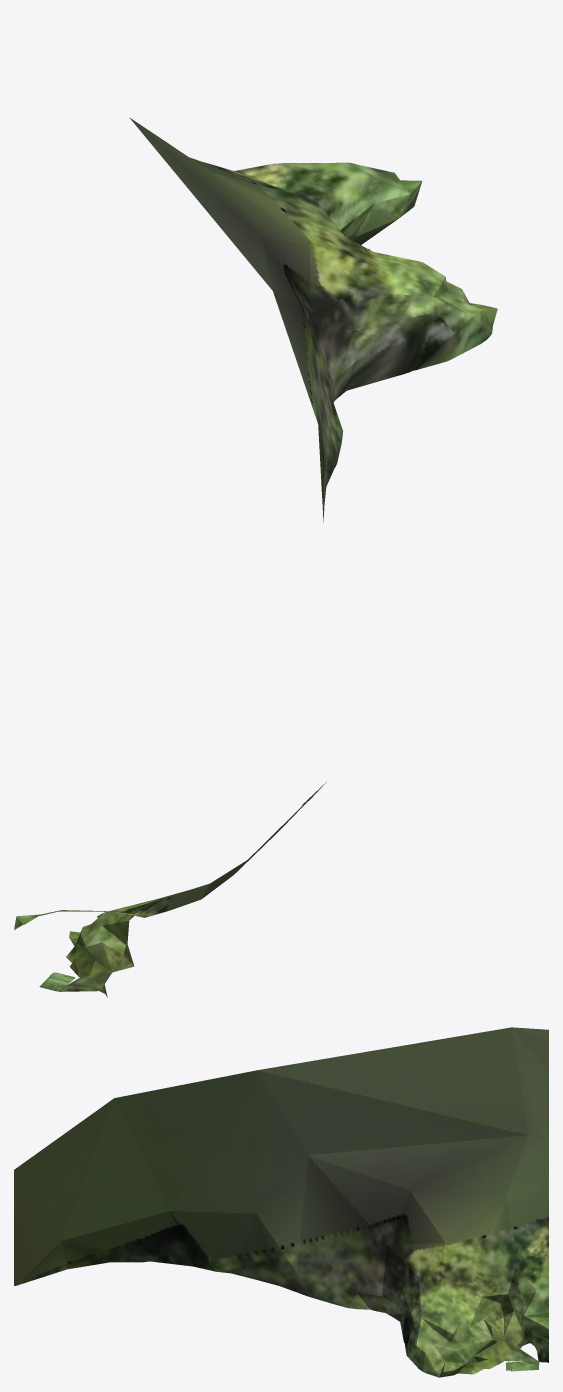
3 renders of one model, top to bottom at view 1: azimuth 30°, elevation 25°; view 2: azimuth 150°, elevation 25°; view 3: azimuth 270°, elevation 25°, orthographic. The views are drawn at different scales.
Bounding box in the file's own units: 14.66 × 12.22 × 26.11.
2 materials, 2 textured.
